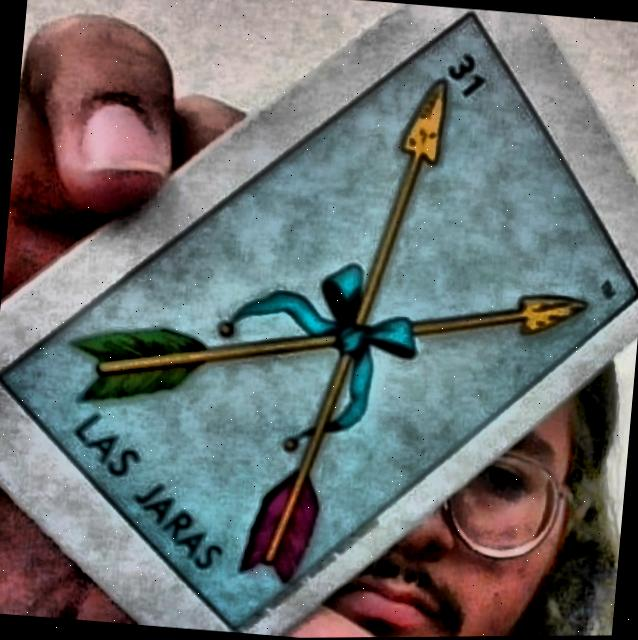Las Jaras: (0, 14, 638, 623)
